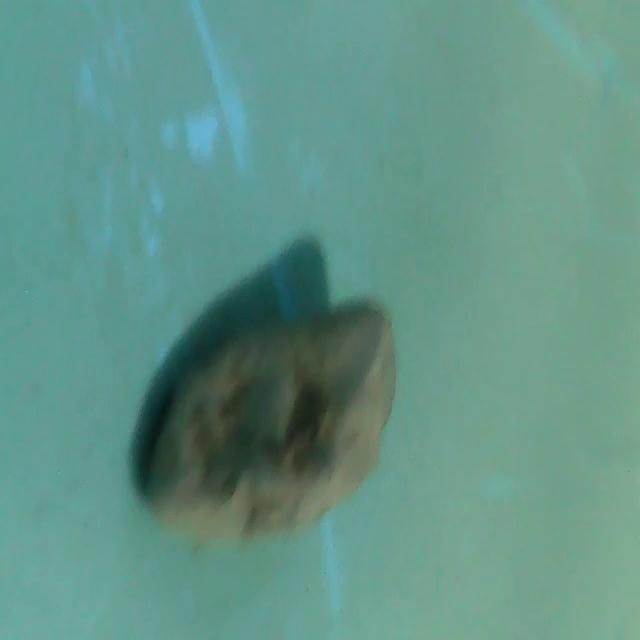rock: (138, 280, 408, 553)
